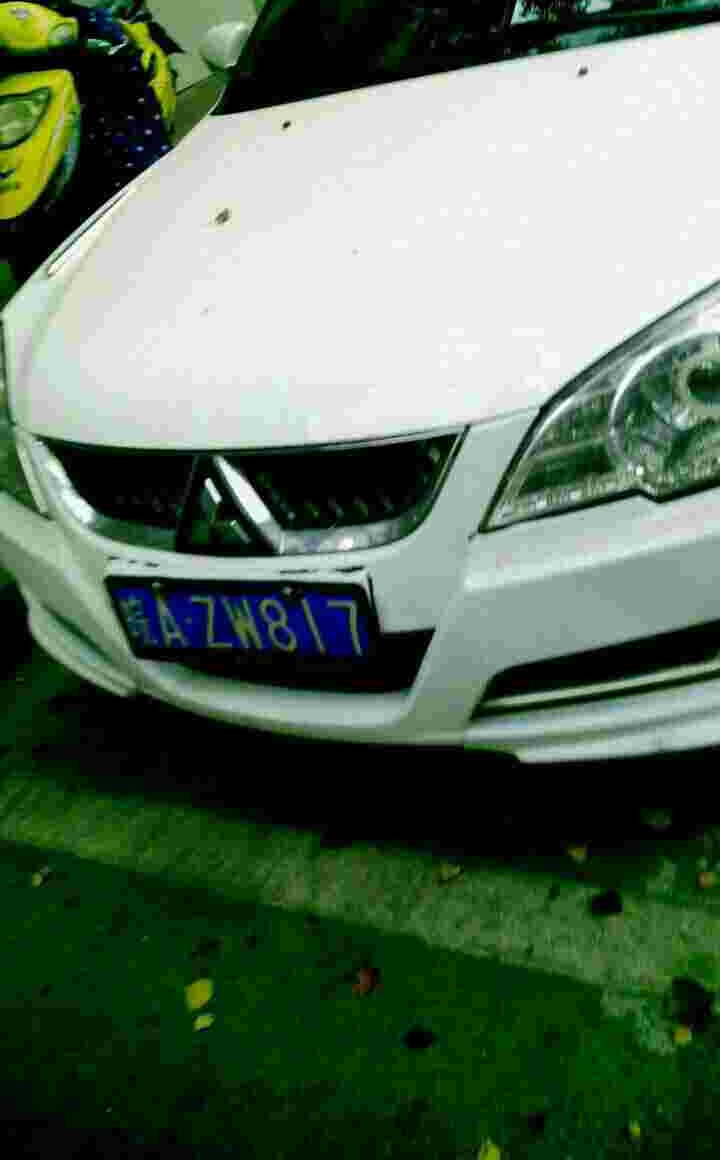plate: (94, 574, 128, 673)
